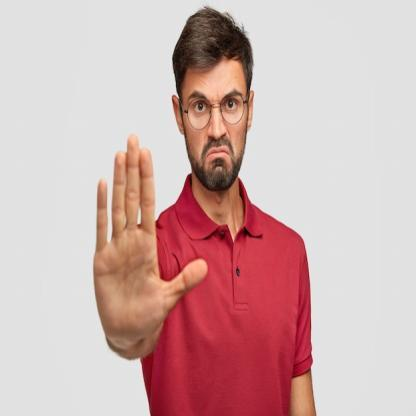stop: (92, 130, 210, 350)
